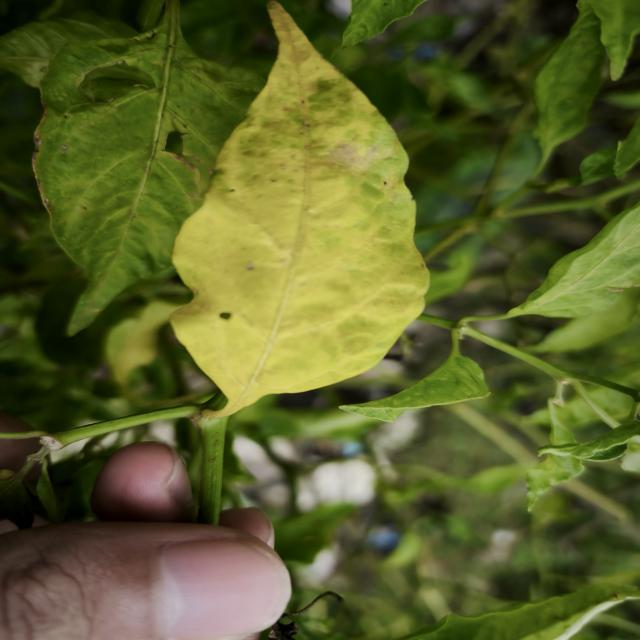Virus Kuning: (167, 2, 431, 421)
